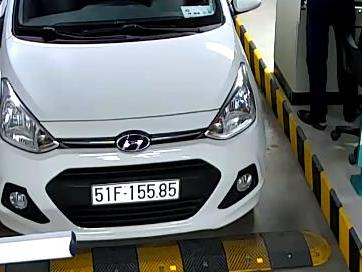number: (92, 179, 180, 205)
